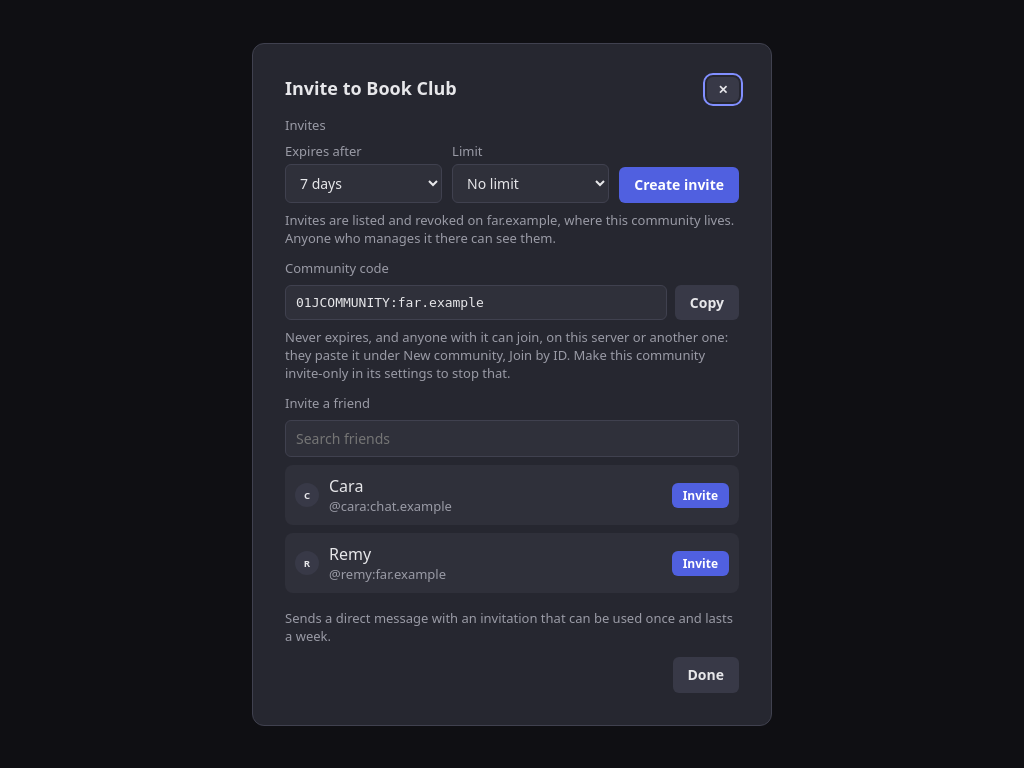
Test: InviteModal: a community on another server › says so when the home server refuses, which is how a member without the permission finds out
Click the button "Create invite".
click(679, 185)  # box [619,167,739,202]
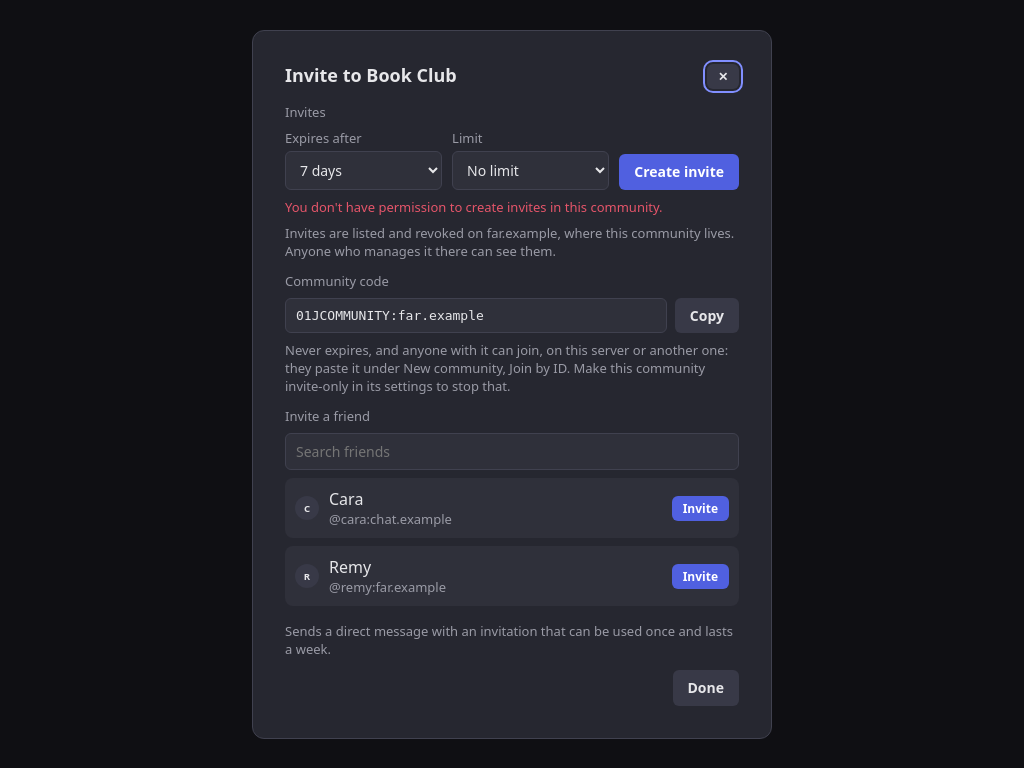
Check: the message "You don't have permission to create invites in this community." is shown, box [285,198,663,216]
